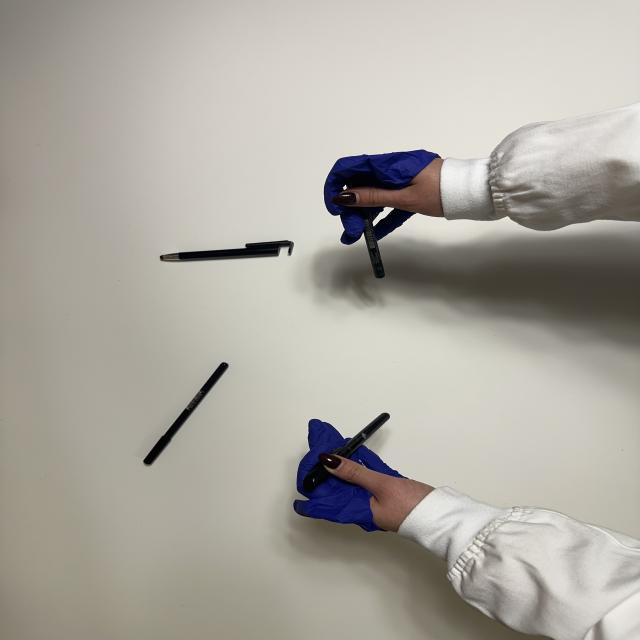glove_partial: (291, 416, 439, 536), (324, 151, 452, 245)
